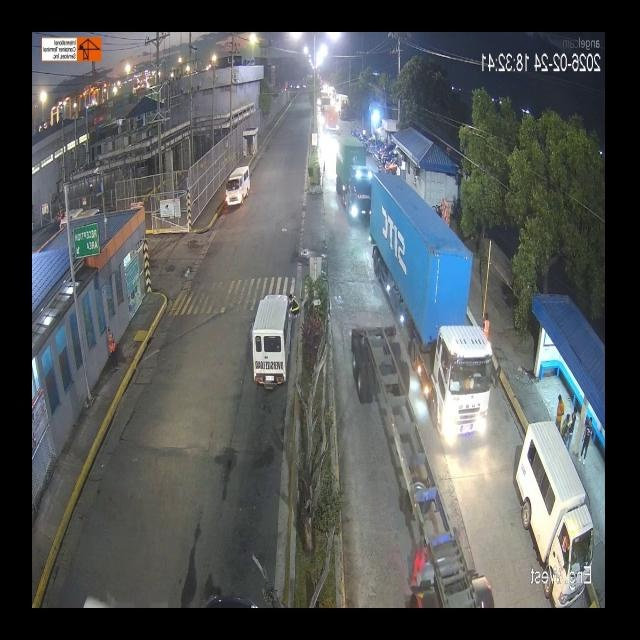car: (508, 433, 592, 568), (257, 282, 294, 389), (222, 158, 254, 212)
truck: (142, 167, 498, 454), (142, 323, 498, 602), (334, 137, 374, 227), (337, 95, 353, 125)
